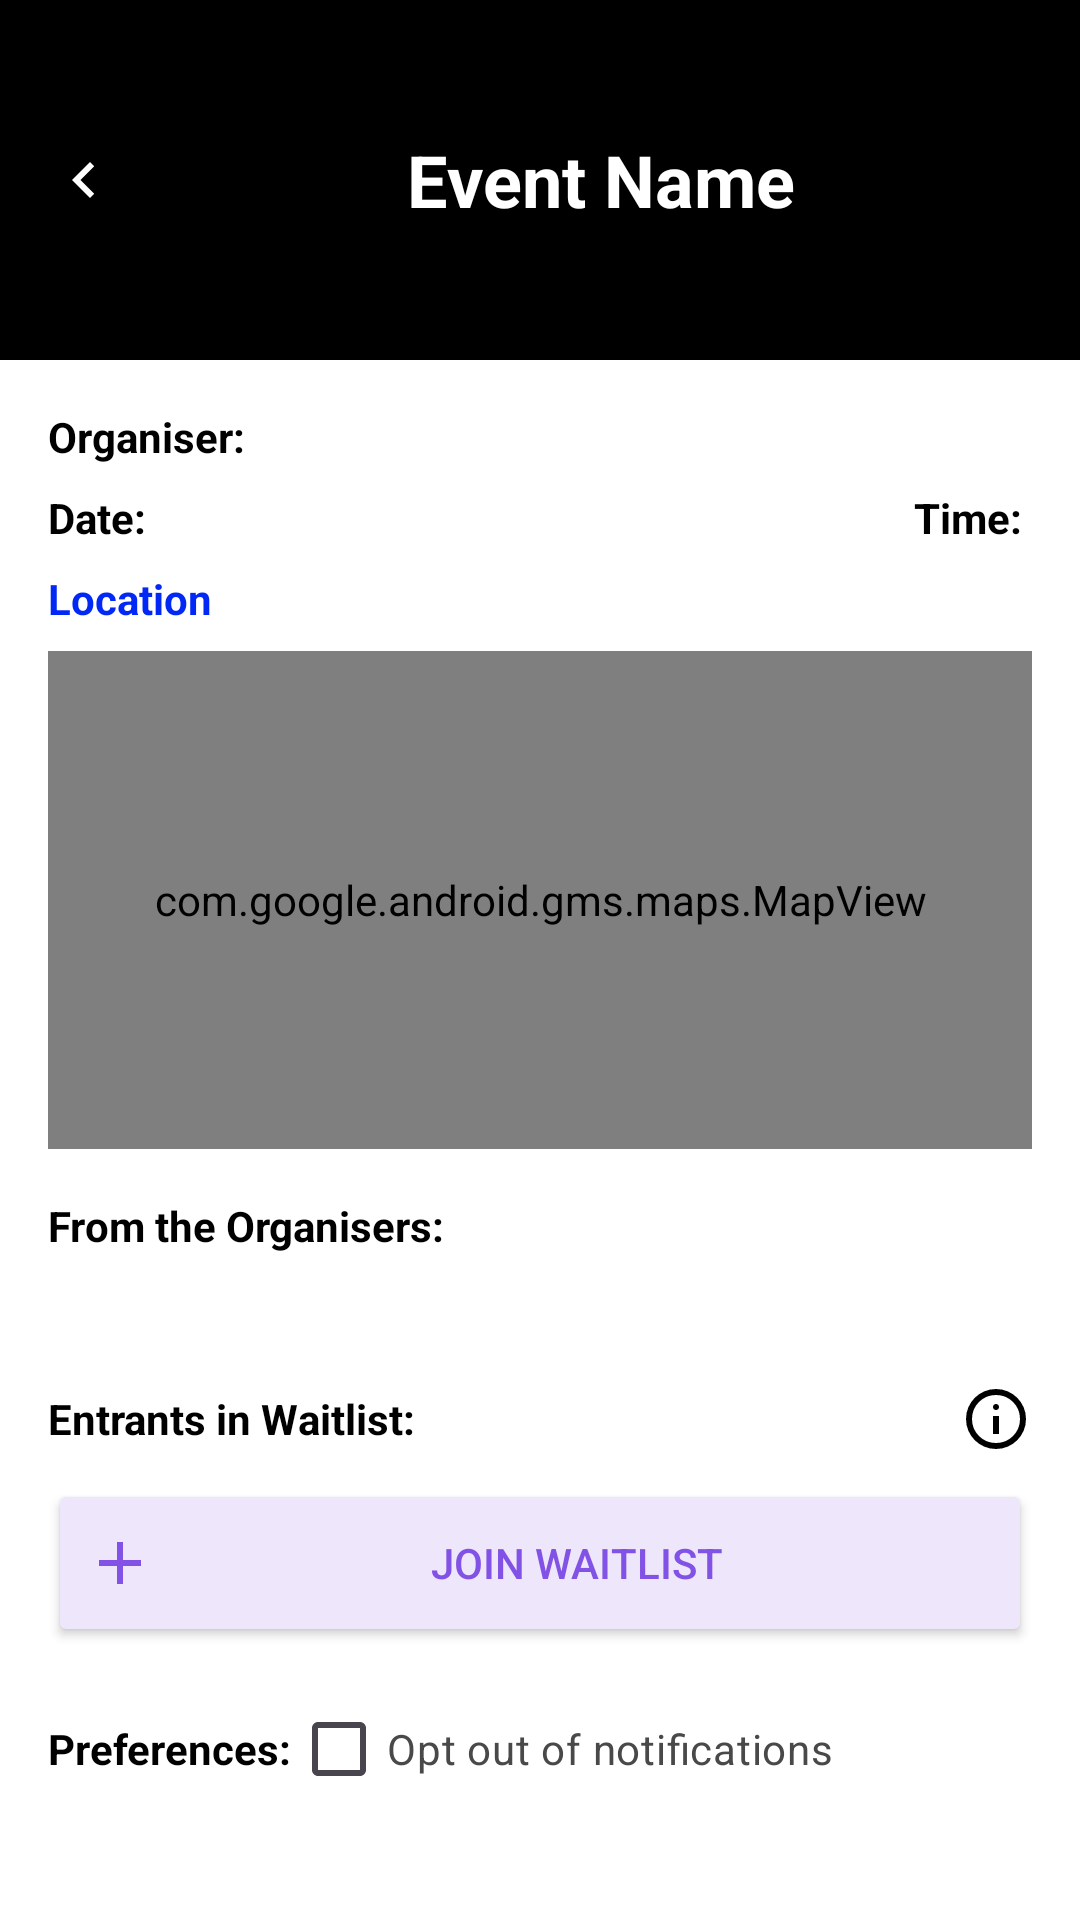

Icons on this 1080px×1920px Android screen, each with its box as detection(x1, y1, x2, y2):
arrow left: detection(72, 162, 94, 198)
